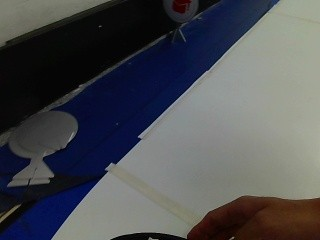school: (164, 0, 200, 21)
